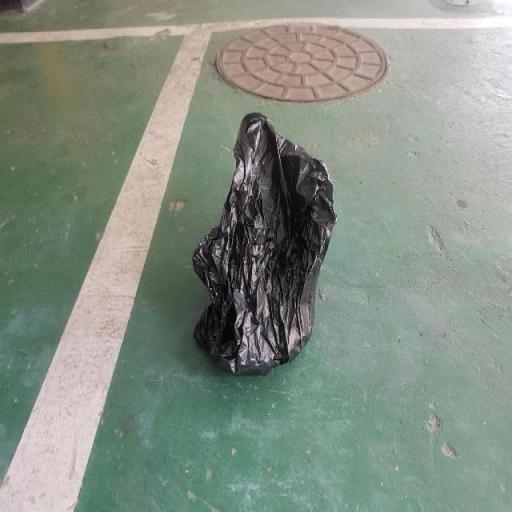plastic-bag: (192, 110, 341, 382)
